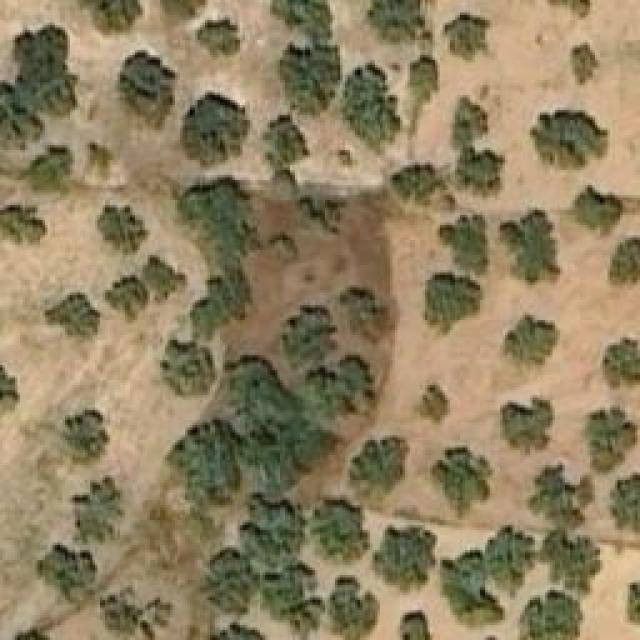Tree: (223, 360, 326, 483), (170, 93, 250, 168), (178, 183, 258, 256), (13, 28, 76, 118), (37, 543, 115, 613), (342, 63, 400, 153), (455, 98, 505, 201), (273, 43, 342, 117), (120, 50, 180, 133), (440, 555, 503, 633), (530, 110, 610, 170), (175, 430, 238, 505), (430, 448, 493, 521), (240, 493, 308, 556), (500, 210, 558, 283), (373, 525, 438, 590), (100, 585, 175, 640), (188, 265, 251, 330), (420, 270, 480, 338), (260, 563, 320, 628), (313, 495, 368, 563), (585, 408, 640, 473), (73, 475, 123, 545), (315, 360, 368, 425), (262, 115, 310, 185), (200, 550, 253, 613), (350, 435, 410, 490), (330, 575, 380, 640), (545, 525, 598, 585), (340, 287, 393, 345), (505, 313, 560, 366), (283, 308, 336, 363), (533, 465, 586, 518), (503, 398, 553, 453), (98, 205, 151, 255), (60, 410, 110, 463), (160, 343, 210, 396), (440, 213, 490, 266), (270, 0, 337, 38), (525, 592, 578, 640), (570, 187, 623, 235), (45, 293, 100, 338), (367, 0, 424, 42), (493, 525, 536, 580), (392, 165, 450, 205), (445, 12, 490, 60), (0, 205, 48, 250), (298, 190, 348, 233), (75, 0, 142, 32), (602, 338, 640, 393), (607, 472, 640, 535), (197, 18, 245, 58), (20, 148, 70, 183), (607, 234, 640, 287), (408, 55, 441, 103), (105, 277, 145, 315), (140, 257, 180, 295), (0, 360, 20, 428), (570, 43, 598, 83), (208, 622, 268, 640), (420, 385, 448, 423), (398, 610, 433, 640), (0, 622, 55, 640), (272, 230, 300, 263), (163, 0, 208, 18)
